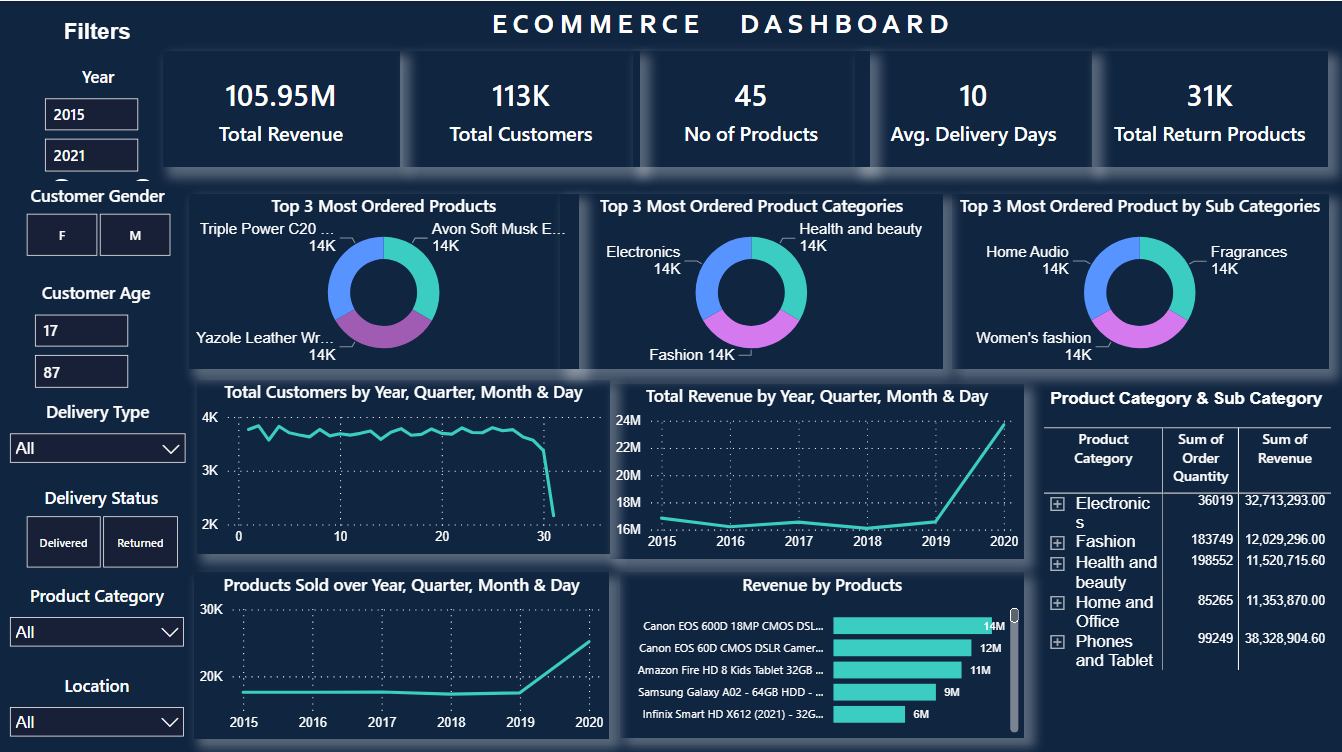

Layout of this report page (visuals, bound fields, positions):
{"tool":"powerbi","page":{"name":"Page 1","canvas":[1280,720],"ordinal":0},"visuals":[{"type":"card","title":"Total Revenue","fields":{"Values":["Sum(Data.Revenue)"]},"box":[156.5,47.2,225.3,110.6],"z":0},{"type":"card","fields":{"Values":["Count(Data.CustomerID)"]},"box":[384.5,47.2,225.3,110.6],"z":1000},{"type":"card","fields":{"Values":["Count(Data.Product)"]},"box":[603,47.2,225.3,110.6],"z":2000},{"type":"card","fields":{"Values":["Data.Average Delivery Time"]},"box":[814.8,47.2,225.3,110.6],"z":3000},{"type":"card","fields":{"Values":["CountNonNull(Delivery.Status)"]},"box":[1040.1,47.2,225.3,110.6],"z":4000},{"type":"slicer","title":"Year","fields":{"Values":["Calendar.Year"]},"box":[31,60.7,126.8,110.6],"z":5000},{"type":"slicer","title":"Customer Gender","fields":{"Values":["Data.Customer Gender"]},"box":[0,174,187.5,75.5],"z":6000},{"type":"slicer","title":"Customer Age","fields":{"Values":["Data.Customer Age"]},"box":[21.6,267.1,141.7,102.5],"z":7000},{"type":"slicer","title":"Location","fields":{"Values":["Data.Location"]},"box":[0,640.8,186.2,71.5],"z":8000},{"type":"slicer","title":"Product Category","fields":{"Values":["Data.Product Category"]},"box":[0,554.5,186.2,68.8],"z":9000},{"type":"slicer","title":"Delivery Status","fields":{"Values":["Data.Status"]},"box":[0,461.4,194.3,85],"z":11000},{"type":"slicer","title":"Delivery Type","fields":{"Values":["Data.Delivery Type"]},"box":[0,379.1,187.5,68.8],"z":12000},{"type":"donutChart","title":"Top 3 Most Ordered Products","fields":{"Category":["Data.Product"],"Y":["Sum(Data.Order Quantity)"]},"box":[180.8,183.5,371,167.3],"z":13000},{"type":"donutChart","title":"Top 3 Most Ordered Product Categories","fields":{"Category":["Data.Product Category"],"Y":["Sum(Data.Order Quantity)"]},"box":[534.2,183.5,364.3,167.3],"z":14000},{"type":"lineChart","title":"Total Customers by Year, Quarter, Month & Day","fields":{"Y":["CountNonNull(Data.CustomerID)"],"Category":["Calendar.Date.Variation.Date Hierarchy.Year","Calendar.Date.Variation.Date Hierarchy.Quarter","Calendar.Date.Variation.Date Hierarchy.Month","Calendar.Date.Variation.Date Hierarchy.Day"]},"box":[187.5,360.2,393.9,165.9],"z":15000},{"type":"lineChart","title":"Products Sold over Year, Quarter, Month & Day","fields":{"Category":["Calendar.Date.Variation.Date Hierarchy.Year","Calendar.Date.Variation.Date Hierarchy.Quarter","Calendar.Date.Variation.Date Hierarchy.Month","Calendar.Date.Variation.Date Hierarchy.Day"],"Y":["CountNonNull(Data.Product)"]},"box":[186.2,543.7,395.3,159.2],"z":16000},{"type":"lineChart","title":"Total Revenue by Year, Quarter, Month & Day","fields":{"Category":["Calendar.Date.Variation.Date Hierarchy.Year","Calendar.Date.Variation.Date Hierarchy.Quarter","Calendar.Date.Variation.Date Hierarchy.Month","Calendar.Date.Variation.Date Hierarchy.Day"],"Y":["Sum(Data.Revenue)"]},"box":[581.5,364.3,393.9,167.3],"z":17000},{"type":"donutChart","title":"Top 3 Most Ordered Product by Sub Categories","fields":{"Category":["Data.SubCategory"],"Y":["Sum(Data.Order Quantity)"]},"box":[906.6,183.5,358.9,167.3],"z":18000},{"type":"barChart","title":"Revenue by Products","fields":{"Y":["Sum(Data.Revenue)"],"Category":["Data.Product"]},"box":[590.9,543.7,384.5,157.8],"z":19000},{"type":"pivotTable","title":"Rating by Product Category & Sub Category","fields":{"Rows":["Data.Product Category","Data.SubCategory"],"Values":["Sum(Data.Order Quantity)","Sum(Data.Revenue)"]},"box":[990.2,400.7,290.1,300.8],"z":20000},{"type":"textbox","box":[31,12.1,125.5,48.6],"z":21000},{"type":"textbox","box":[975.4,364.3,304.9,37.8],"z":22000},{"type":"textbox","box":[464.1,0,457.3,47.2],"z":23000}]}

Visuals, with their boxes in screenshot pixels (x1, y1, x2, y2), scaled from the page's 1280x720 canvas onto the 1342x752 screenshot:
"Total Revenue" card: (164, 49, 400, 165)
card - Count(Data.CustomerID): (403, 49, 639, 165)
card - Count(Data.Product): (632, 49, 868, 165)
card - Data.Average Delivery Time: (854, 49, 1090, 165)
card - CountNonNull(Delivery.Status): (1090, 49, 1327, 165)
"Year" slicer: (33, 63, 165, 179)
"Customer Gender" slicer: (0, 182, 197, 261)
"Customer Age" slicer: (23, 279, 171, 386)
"Location" slicer: (0, 669, 195, 744)
"Product Category" slicer: (0, 579, 195, 651)
"Delivery Status" slicer: (0, 482, 204, 571)
"Delivery Type" slicer: (0, 396, 197, 468)
"Top 3 Most Ordered Products" donutChart: (190, 192, 579, 366)
"Top 3 Most Ordered Product Categories" donutChart: (560, 192, 942, 366)
"Total Customers by Year, Quarter, Month & Day" lineChart: (197, 376, 610, 549)
"Products Sold over Year, Quarter, Month & Day" lineChart: (195, 568, 610, 734)
"Total Revenue by Year, Quarter, Month & Day" lineChart: (610, 380, 1023, 555)
"Top 3 Most Ordered Product by Sub Categories" donutChart: (951, 192, 1327, 366)
"Revenue by Products" barChart: (620, 568, 1023, 733)
"Rating by Product Category & Sub Category" pivotTable: (1038, 419, 1341, 733)
textbox: (33, 13, 164, 63)
textbox: (1023, 380, 1341, 420)
textbox: (487, 0, 966, 49)
